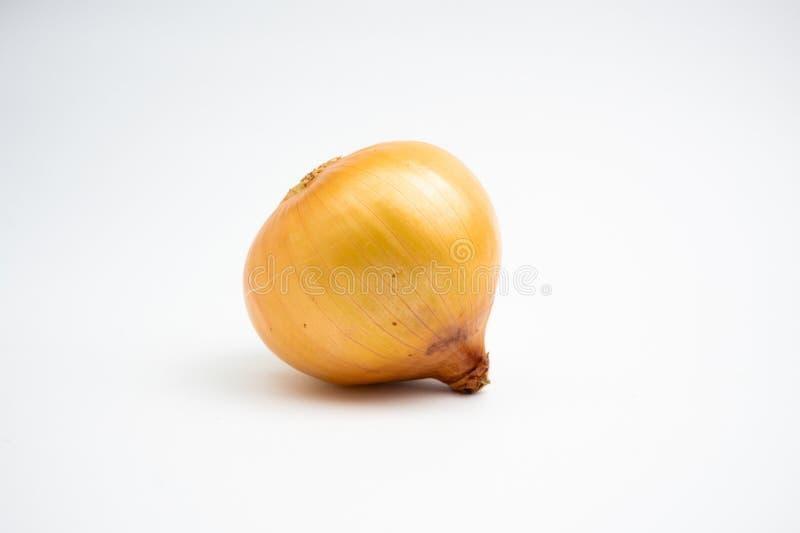Onion: (244, 141, 500, 392)
